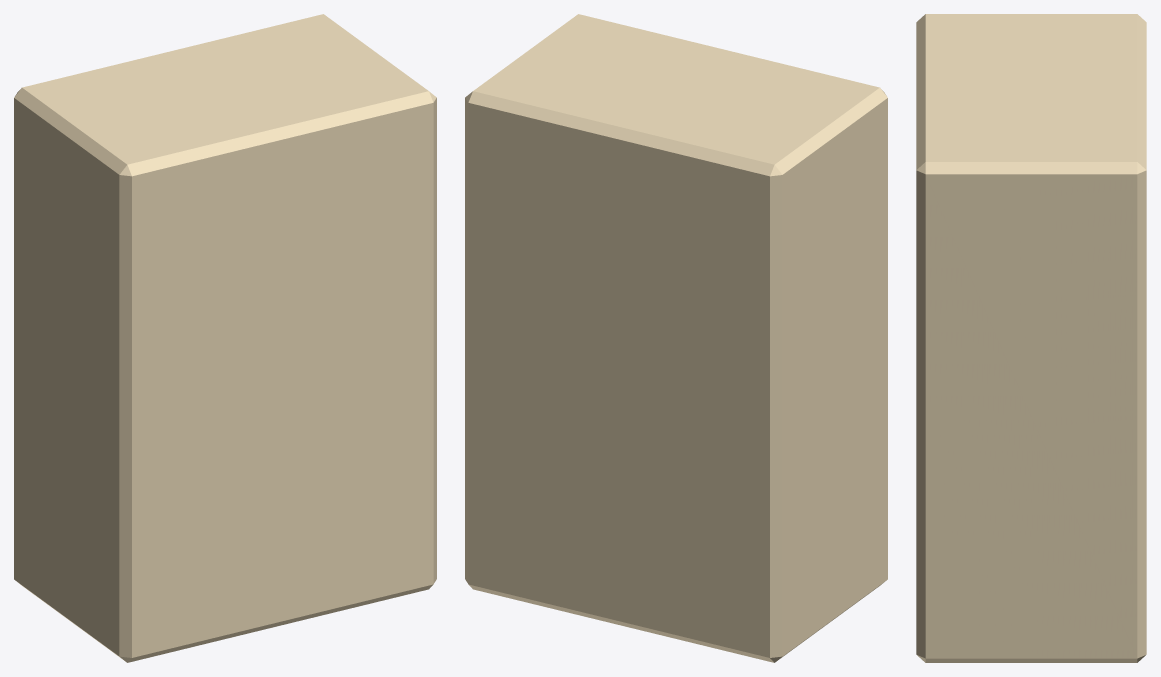
The model's file is SM_CH_Paper_Box.fbx.
3 renders of one model, left to right at view 1: azimuth 30°, elevation 25°; view 2: azimuth 150°, elevation 25°; view 3: azimuth 270°, elevation 25°, orthographic.
Visible parts, largest first — view 1: SM_CH_Paper_Box; view 2: SM_CH_Paper_Box; view 3: SM_CH_Paper_Box.
Boxes of the visible parts, left/top/right/bottom form: SM_CH_Paper_Box: left=14, top=14, right=436, bottom=662; SM_CH_Paper_Box: left=465, top=14, right=887, bottom=662; SM_CH_Paper_Box: left=916, top=14, right=1146, bottom=662.
Size of the model in its own units: 4000 by 2500 by 6000.
